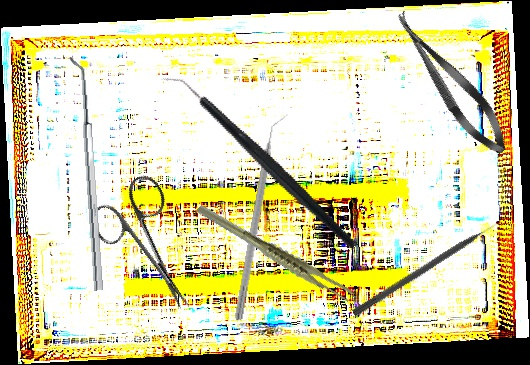Chopper: (161, 33, 358, 291), (234, 111, 290, 324)
Iris Scissors: (82, 170, 221, 328)
Micro Scissor: (384, 3, 518, 163)
Pusher: (351, 217, 505, 319)
Spatula Surgical: (68, 55, 104, 292)
Tissue Forceps: (194, 178, 356, 327)
